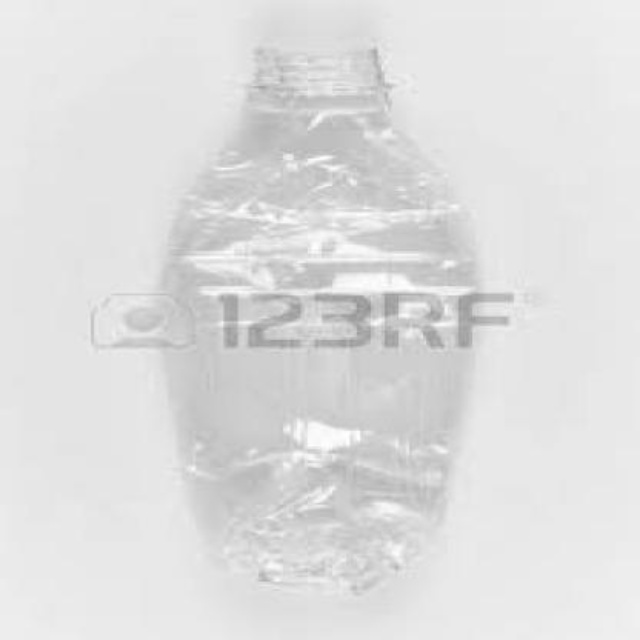trash: (166, 46, 477, 592)
